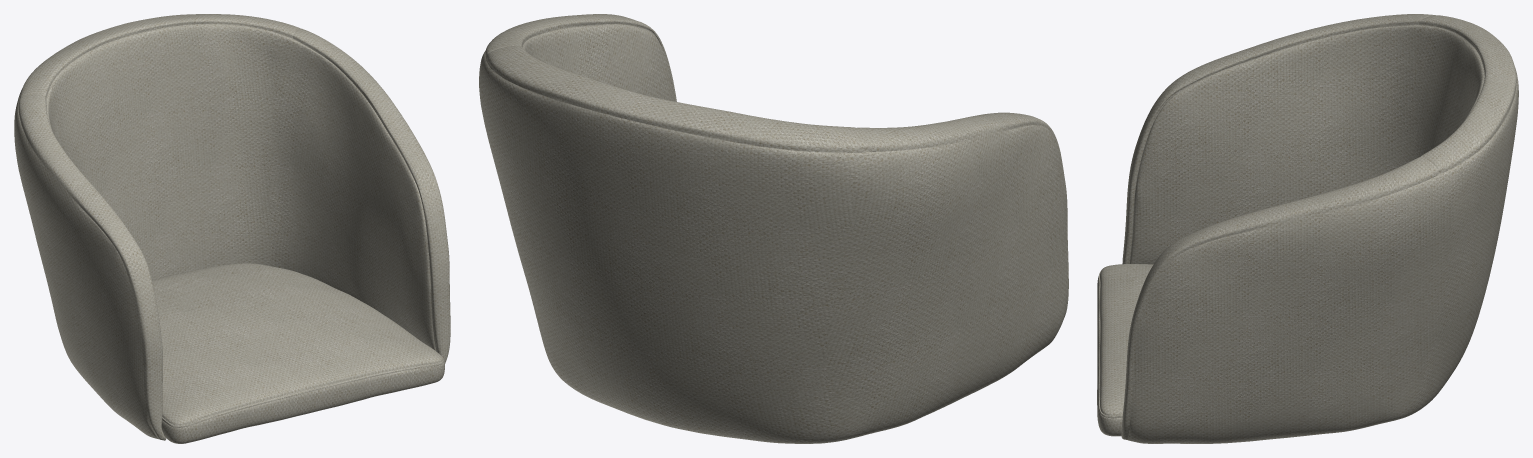
File: Carine metal.glb
3 views of the same model, side by side, from view 1: azimuth 30°, elevation 25°; view 2: azimuth 150°, elevation 25°; view 3: azimuth 270°, elevation 25° (orthographic). The views are drawn at different scales.
Visible parts, largest first — view 1: backseat; view 2: backseat; view 3: backseat.
Boxes of the visible parts, x1,y1,x2,y2 form: backseat: (14, 14, 450, 443); backseat: (479, 14, 1068, 443); backseat: (1097, 14, 1518, 443).
Size of the model in its own units: 0.5975 by 0.4417 by 0.5694.
Materials: 1 (1 with a texture image).
